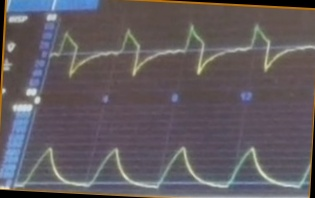Normal Flow: (51, 22, 314, 86)
Normal Volume: (17, 137, 309, 189)
